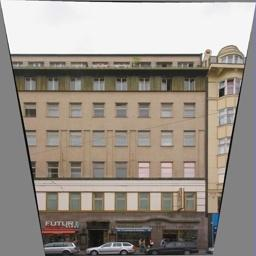building: (8, 52, 209, 255)
